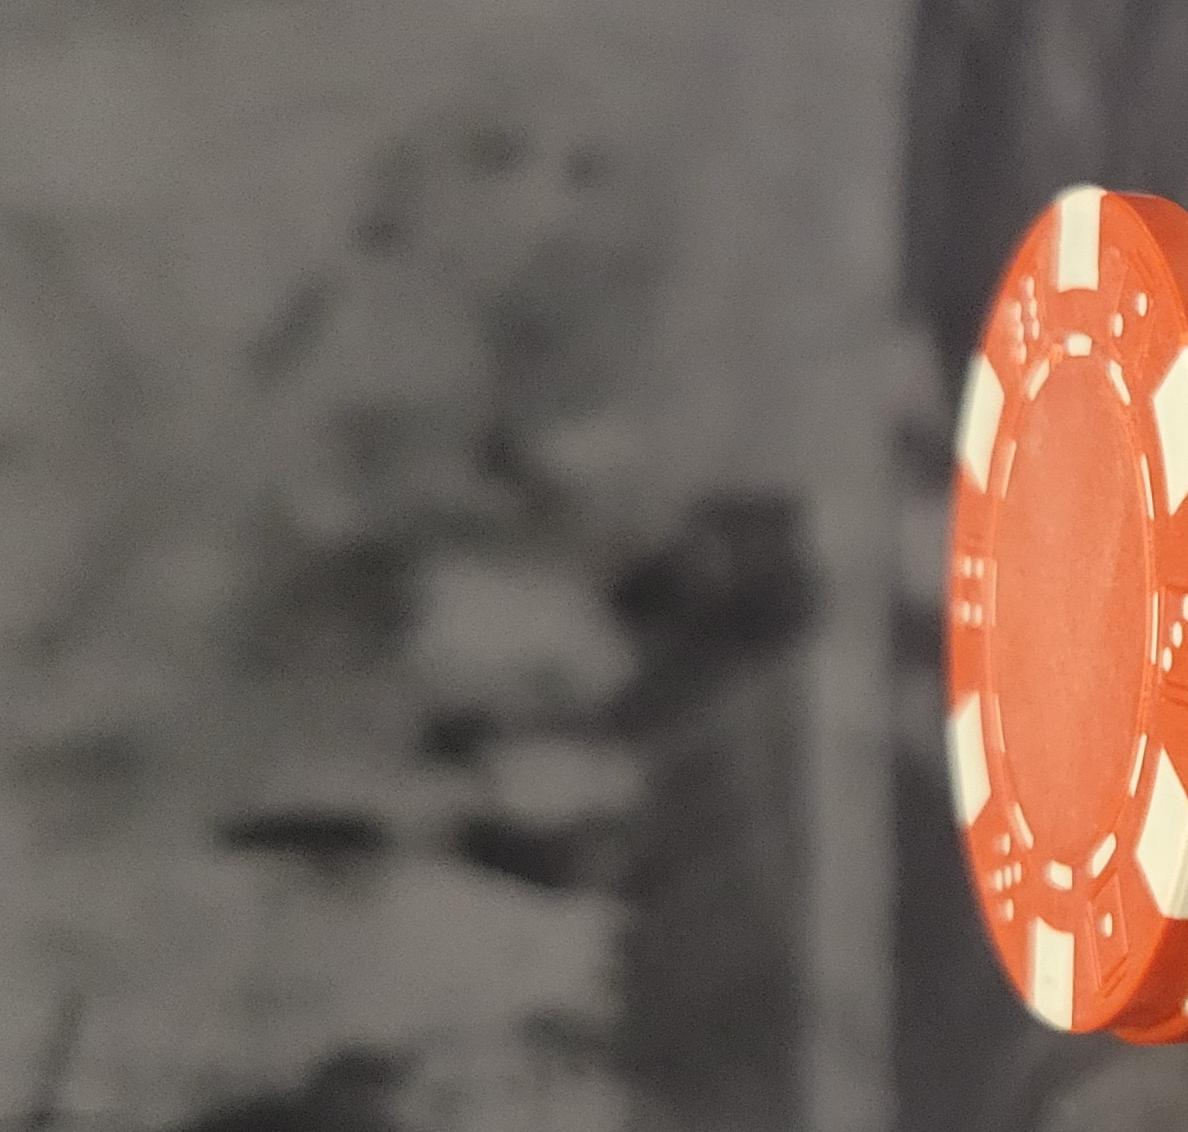Chip: (1, 267, 821, 1132)
